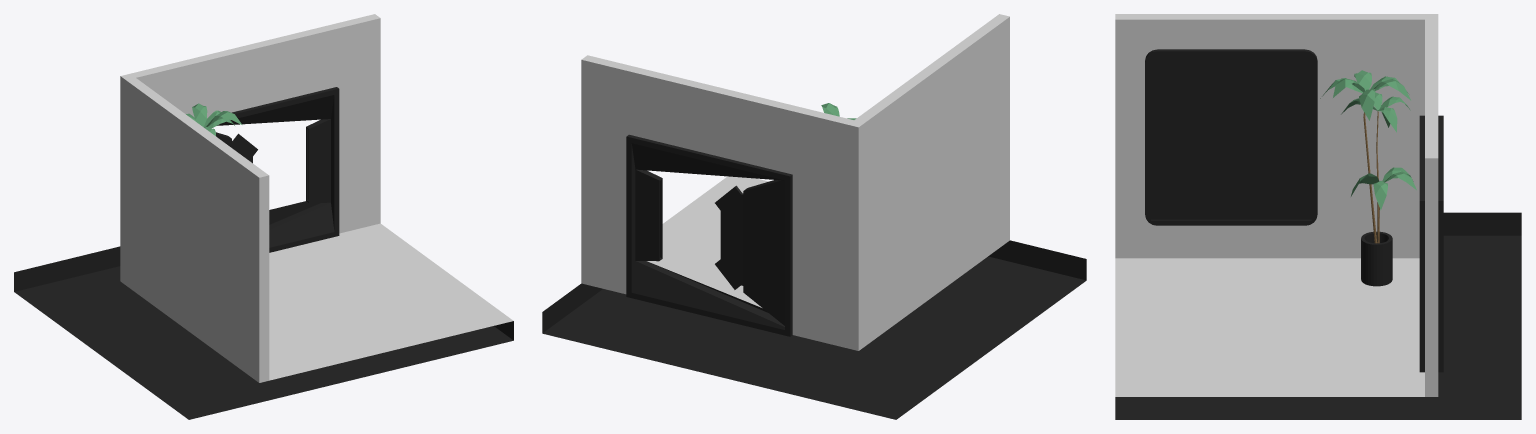
File: isometric.glb
The picture shows the model from 3 angles, left to right: view 1: azimuth 30°, elevation 25°; view 2: azimuth 150°, elevation 25°; view 3: azimuth 270°, elevation 25°; orthographic projection. The views are drawn at different scales.
Parts seen in each view (by area): view 1: Wall, Floor, leaf.004_6; view 2: Wall, Floor; view 3: Floor, Wall, Plane, Cylinder, leaf.004_6, leaf.003_5, leaf.014_7.
Boxes of the visible parts, x1=… form: Wall: x1=120, y1=14, x2=380, y2=382; Floor: x1=14, y1=201, x2=513, y2=419; leaf.004_6: x1=186, y1=103, x2=242, y2=135; Wall: x1=581, y1=14, x2=1009, y2=350; Floor: x1=542, y1=176, x2=1086, y2=419; Floor: x1=1115, y1=212, x2=1521, y2=419; Wall: x1=1115, y1=14, x2=1443, y2=396; Plane: x1=1145, y1=49, x2=1317, y2=225; Cylinder: x1=1361, y1=231, x2=1392, y2=286; leaf.004_6: x1=1320, y1=70, x2=1410, y2=120; leaf.003_5: x1=1351, y1=167, x2=1416, y2=210; leaf.014_7: x1=1341, y1=92, x2=1410, y2=132.
Bounding box in the file's own units: 9.94 × 6.58 × 9.26.
